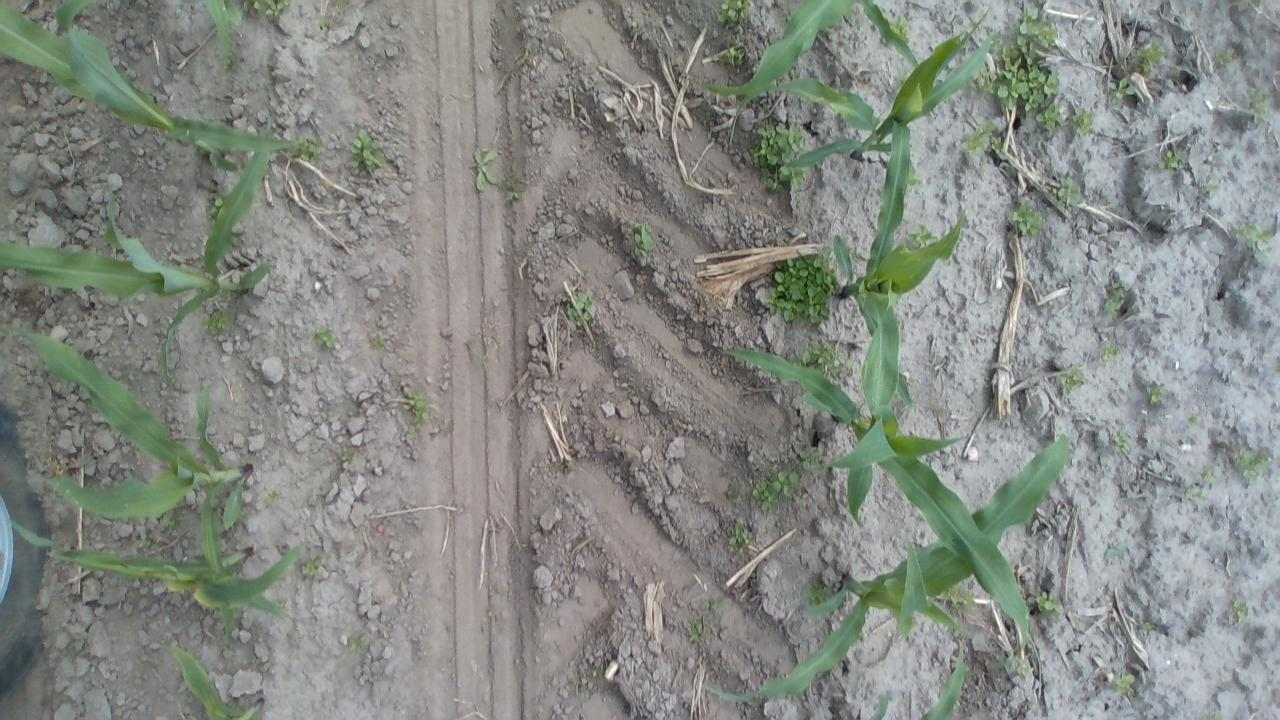Maize: (712, 304, 1025, 656), (702, 434, 1072, 700), (2, 104, 278, 394), (5, 331, 256, 592), (4, 7, 306, 171), (4, 502, 310, 641), (827, 122, 969, 410), (760, 9, 1001, 172), (700, 1, 914, 97), (856, 647, 968, 718), (170, 645, 270, 720), (202, 0, 242, 62), (48, 1, 98, 34)
Weeds: (990, 10, 1064, 122), (768, 253, 838, 328), (751, 121, 808, 195), (794, 339, 854, 382), (751, 468, 800, 512), (1237, 221, 1279, 266), (1012, 10, 1058, 49), (461, 334, 498, 378), (961, 121, 1006, 157), (350, 128, 386, 173), (469, 146, 501, 192), (402, 387, 430, 437), (1008, 199, 1044, 237), (940, 586, 980, 620), (1236, 444, 1270, 484), (562, 291, 600, 325), (1028, 590, 1064, 624), (1135, 38, 1166, 76), (629, 218, 654, 260), (728, 520, 754, 559), (246, 0, 292, 22), (716, 0, 753, 26), (997, 653, 1032, 678), (1053, 176, 1080, 208), (202, 309, 235, 335), (1104, 279, 1127, 316), (1036, 104, 1064, 134), (1059, 364, 1086, 394), (1070, 107, 1096, 138), (1108, 75, 1134, 106), (1243, 87, 1266, 120), (796, 446, 824, 472), (906, 224, 934, 250), (722, 38, 747, 66), (296, 136, 322, 162), (686, 616, 710, 644), (971, 66, 990, 100), (1144, 381, 1168, 406), (314, 326, 338, 351), (804, 581, 828, 606), (891, 14, 912, 42), (502, 174, 524, 200), (1110, 672, 1137, 693), (1162, 148, 1186, 170), (1230, 596, 1250, 622), (300, 556, 326, 576), (205, 194, 222, 222), (158, 514, 184, 532), (346, 631, 368, 652), (1099, 340, 1120, 362), (1106, 539, 1126, 561), (705, 594, 725, 616), (1214, 48, 1238, 66), (339, 445, 359, 465), (1198, 464, 1216, 486), (1200, 175, 1220, 194), (1112, 432, 1133, 450), (220, 56, 243, 72), (723, 483, 742, 502), (1184, 485, 1204, 503), (570, 268, 592, 284), (438, 420, 457, 438), (588, 662, 606, 680), (370, 333, 388, 350), (512, 538, 532, 553), (138, 531, 154, 549), (562, 455, 576, 474), (1187, 412, 1203, 428), (316, 16, 332, 31), (484, 604, 498, 620), (1200, 710, 1224, 719), (264, 490, 278, 505), (1142, 618, 1156, 632), (621, 380, 635, 394), (574, 681, 588, 694), (276, 599, 290, 610), (1024, 700, 1036, 712)
